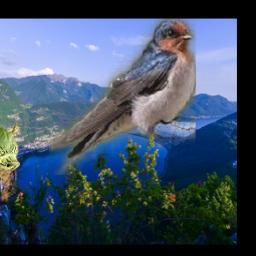Sparrow: (0, 112, 20, 171)
Swallow: (49, 19, 196, 175)
